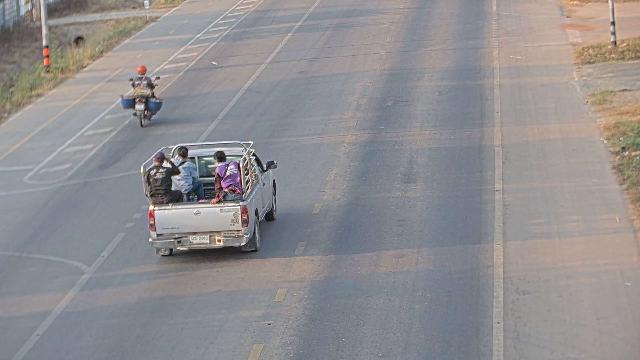motorcycle: (130, 73, 159, 129)
pickup-truck: (140, 139, 278, 256)
